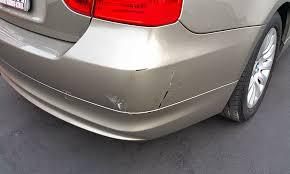rear-bumper-dent: (48, 54, 177, 133)
